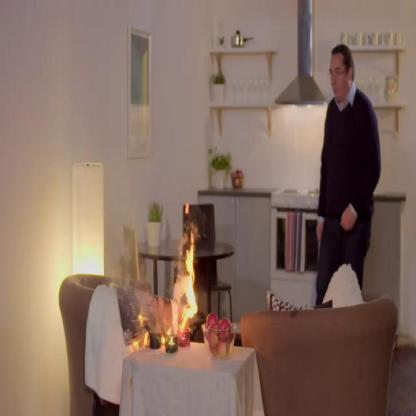fire: (180, 230, 200, 330)
